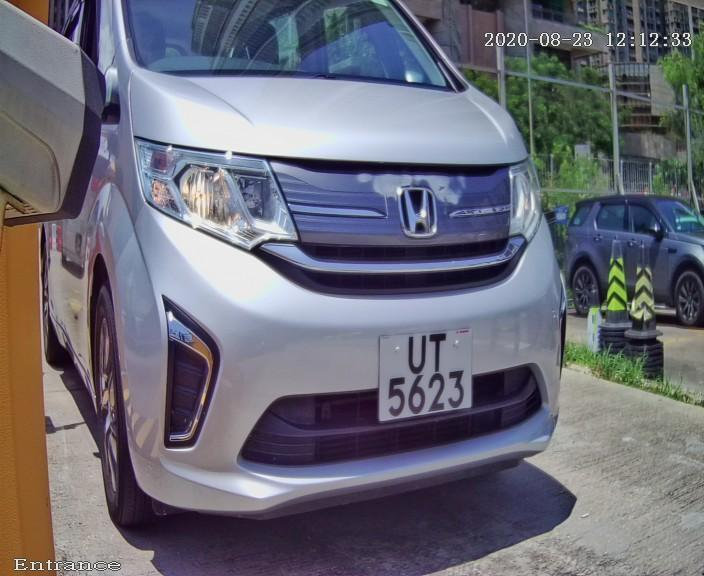License Plate: (368, 319, 485, 430)
